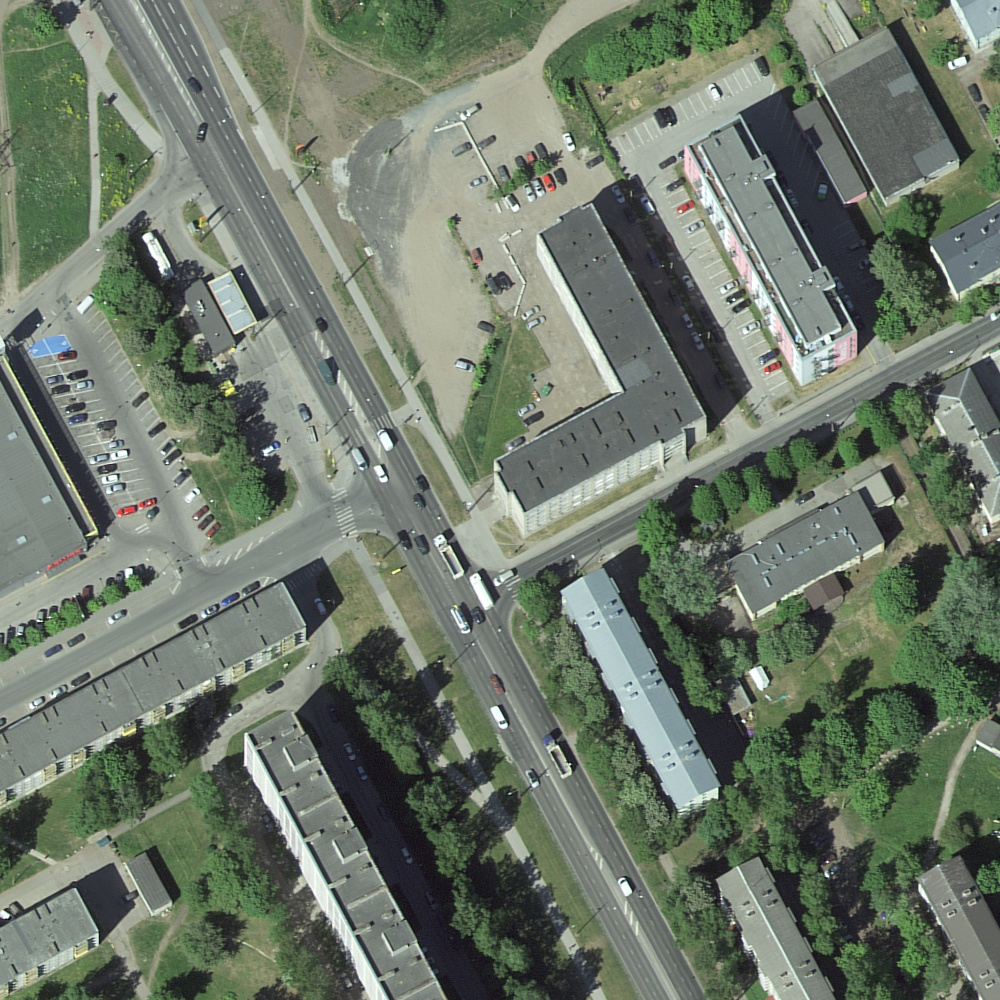building: (495, 205, 707, 514), (1, 582, 307, 793), (246, 710, 448, 1000), (687, 116, 858, 360), (562, 569, 723, 805), (814, 27, 960, 201), (1, 355, 101, 593), (725, 490, 888, 615), (716, 856, 837, 999), (922, 369, 1000, 518), (920, 857, 1000, 1000), (2, 887, 100, 988), (793, 100, 869, 203), (928, 203, 1000, 293), (182, 280, 235, 355), (209, 272, 258, 335), (125, 852, 172, 911), (953, 2, 1000, 42), (715, 676, 752, 717), (805, 574, 846, 611), (853, 473, 895, 508), (976, 720, 1000, 753)
